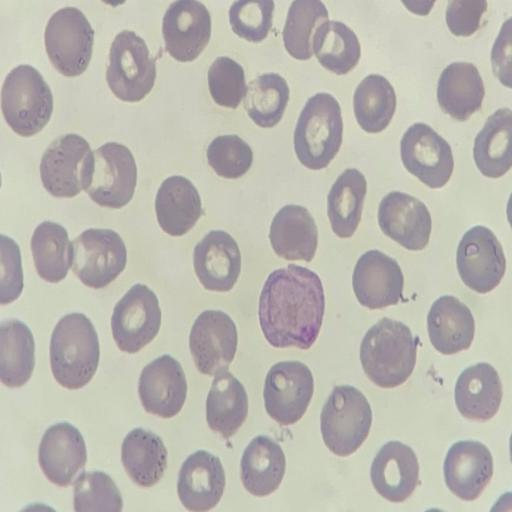Infected: (258, 265, 324, 348)
Uninfected: (359, 318, 417, 386), (49, 313, 99, 388), (296, 93, 343, 171), (319, 386, 370, 454), (399, 123, 453, 187), (106, 31, 156, 100), (2, 65, 52, 134), (82, 142, 136, 205), (110, 284, 160, 352), (40, 133, 93, 197), (455, 226, 505, 292), (44, 7, 93, 74), (70, 229, 126, 287), (377, 191, 431, 250), (262, 362, 313, 424), (188, 311, 237, 375), (137, 355, 186, 418), (369, 442, 419, 503), (38, 423, 86, 486), (352, 250, 404, 308), (442, 440, 492, 500), (161, 1, 211, 60), (192, 230, 241, 289), (268, 204, 318, 261), (176, 451, 224, 510), (204, 373, 247, 438), (154, 176, 202, 234), (120, 427, 167, 486), (426, 296, 473, 354), (282, 0, 328, 59), (326, 169, 366, 236), (453, 363, 500, 420), (438, 61, 485, 117), (474, 108, 512, 177), (240, 437, 284, 496), (30, 221, 72, 282), (312, 21, 360, 73), (352, 75, 396, 131), (207, 133, 256, 182), (243, 73, 289, 125), (0, 320, 35, 386), (207, 57, 246, 108), (228, 0, 273, 42)
